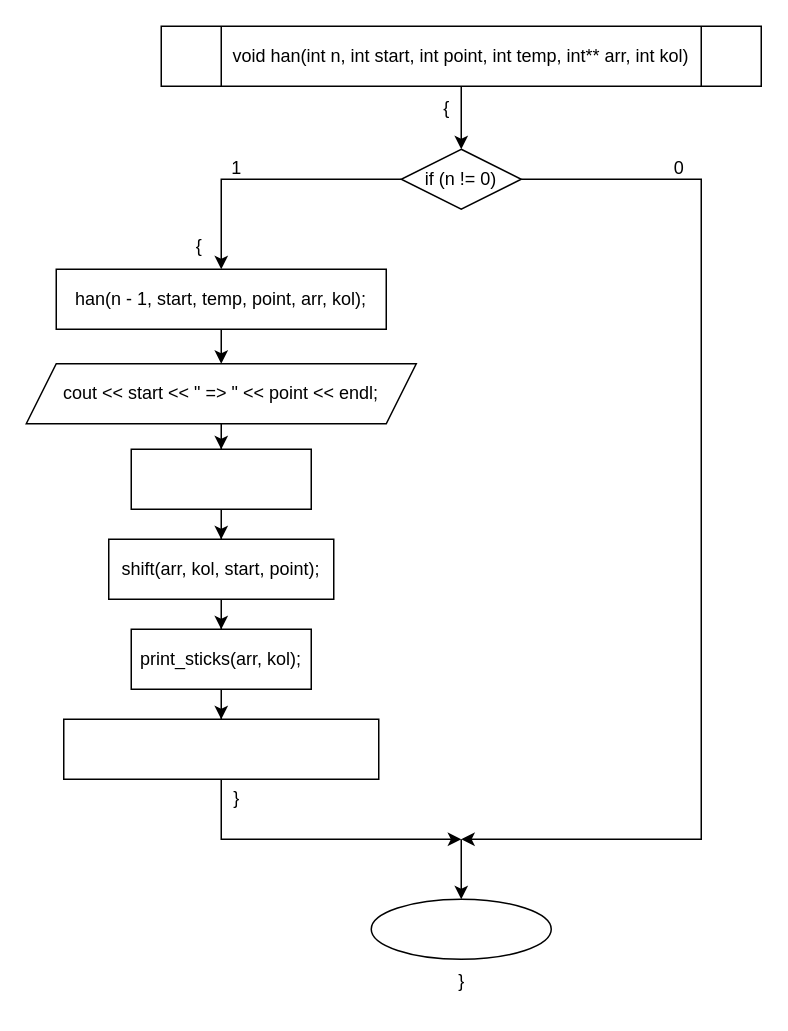
The diagram is 788 pixels wide and 1031 high, and some of its shapes have lost their labels. Each missing label, with the centre of its shape:
"han(n - 1, temp, point, start, arr, kol);" goes at point 220,748.
"moves++;" goes at point 220,478.
"return;" goes at point 460,928.
